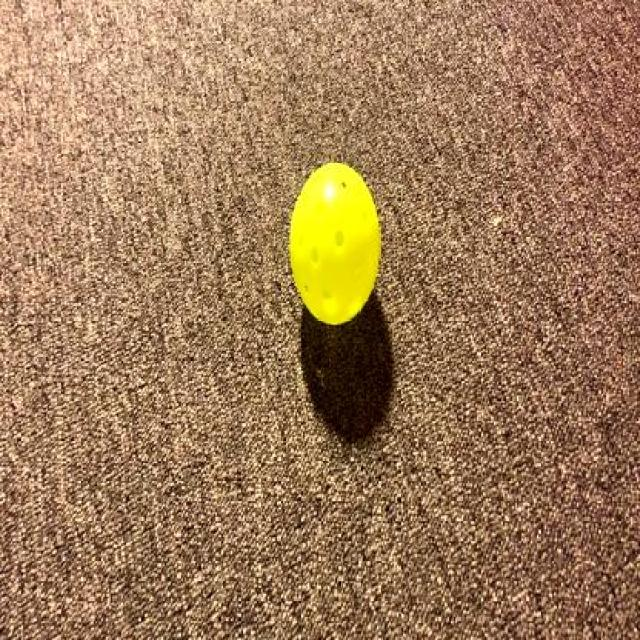ball: (288, 158, 389, 324)
